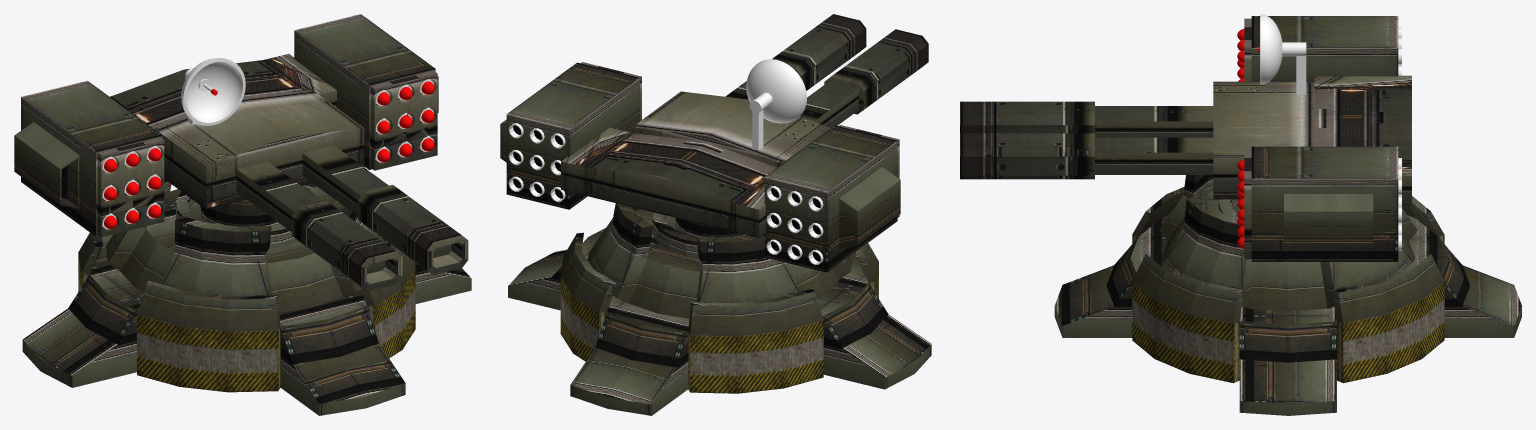
Rendered from Cannon.FBX.
3 views of the same model, side by side, from view 1: azimuth 30°, elevation 25°; view 2: azimuth 150°, elevation 25°; view 3: azimuth 270°, elevation 25° (orthographic). The views are drawn at different scales.
Visible parts, largest first — view 1: Box001, Cylinder001; view 2: Box001, Cylinder001; view 3: Box001, Cylinder001.
Boxes of the visible parts, x1,y1,x2,y2 form: Box001: (14, 14, 468, 291); Cylinder001: (22, 179, 471, 415); Box001: (500, 14, 928, 272); Cylinder001: (508, 203, 931, 415); Box001: (960, 14, 1411, 261); Cylinder001: (1054, 175, 1521, 415).
Bounding box in the file's own units: 50.8 × 33.3 × 61.09.
